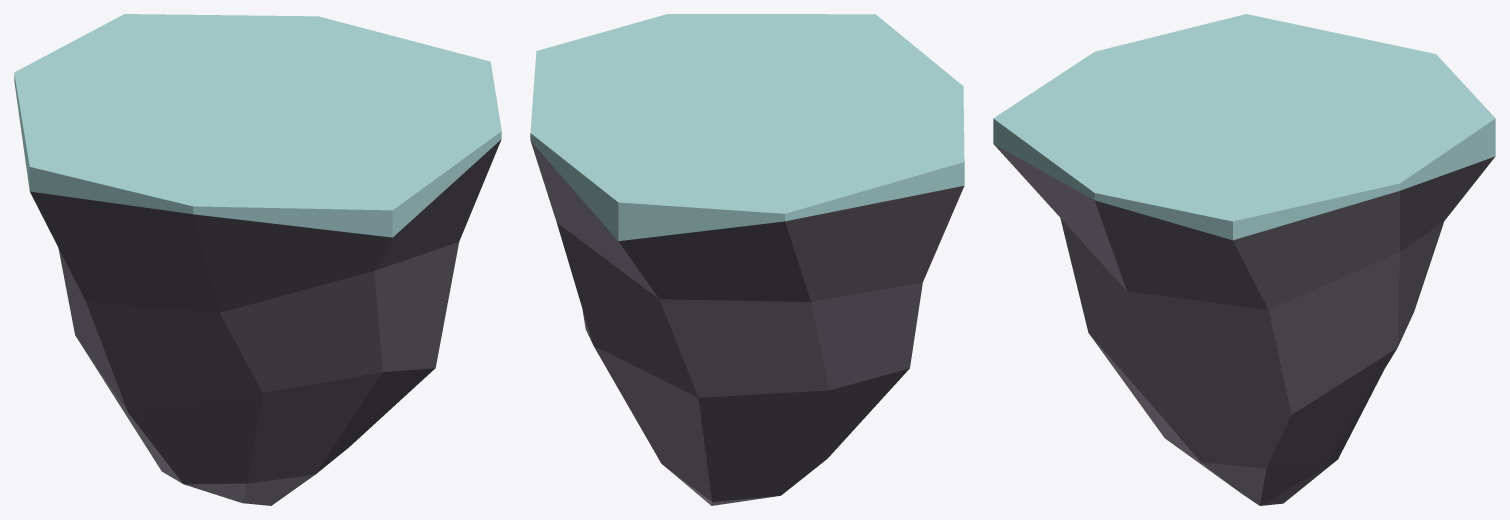
Rendered from platform_0.glb.
3 views of the same model, side by side, from view 1: azimuth 30°, elevation 25°; view 2: azimuth 150°, elevation 25°; view 3: azimuth 270°, elevation 25° (orthographic). The views are drawn at different scales.
Parts seen in each view (by area): view 1: Island01; view 2: Island01; view 3: Island01.
Boxes of the visible parts, bbox=[...] form: Island01: bbox=[14, 14, 501, 505]; Island01: bbox=[530, 14, 964, 505]; Island01: bbox=[993, 14, 1495, 505].
Size of what is drawn, in the model's own units: 0.8871 by 0.7545 by 0.9085.
